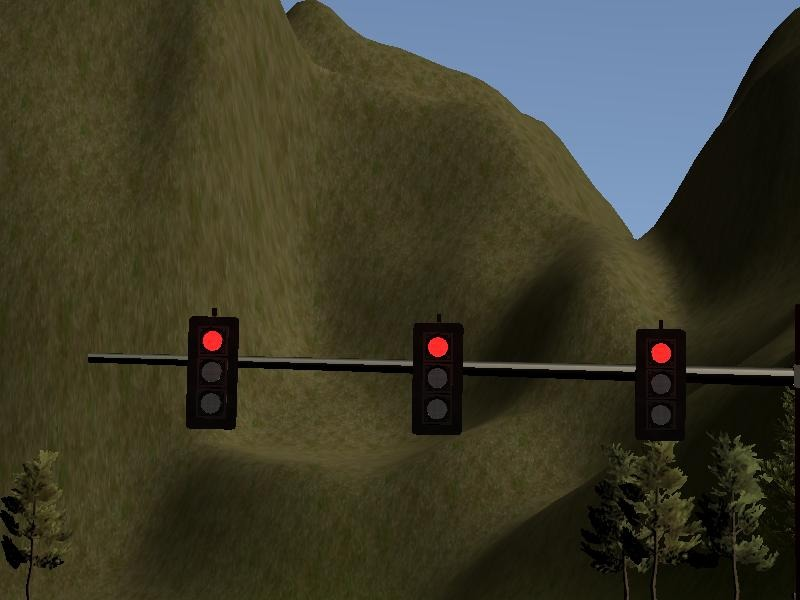red: (187, 316, 239, 429), (634, 329, 686, 442), (411, 322, 463, 435)
